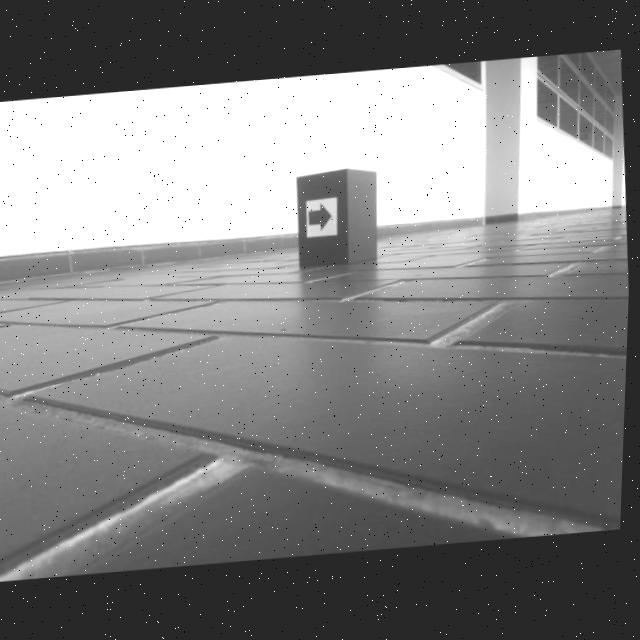RIGHT: (310, 204, 334, 232)
